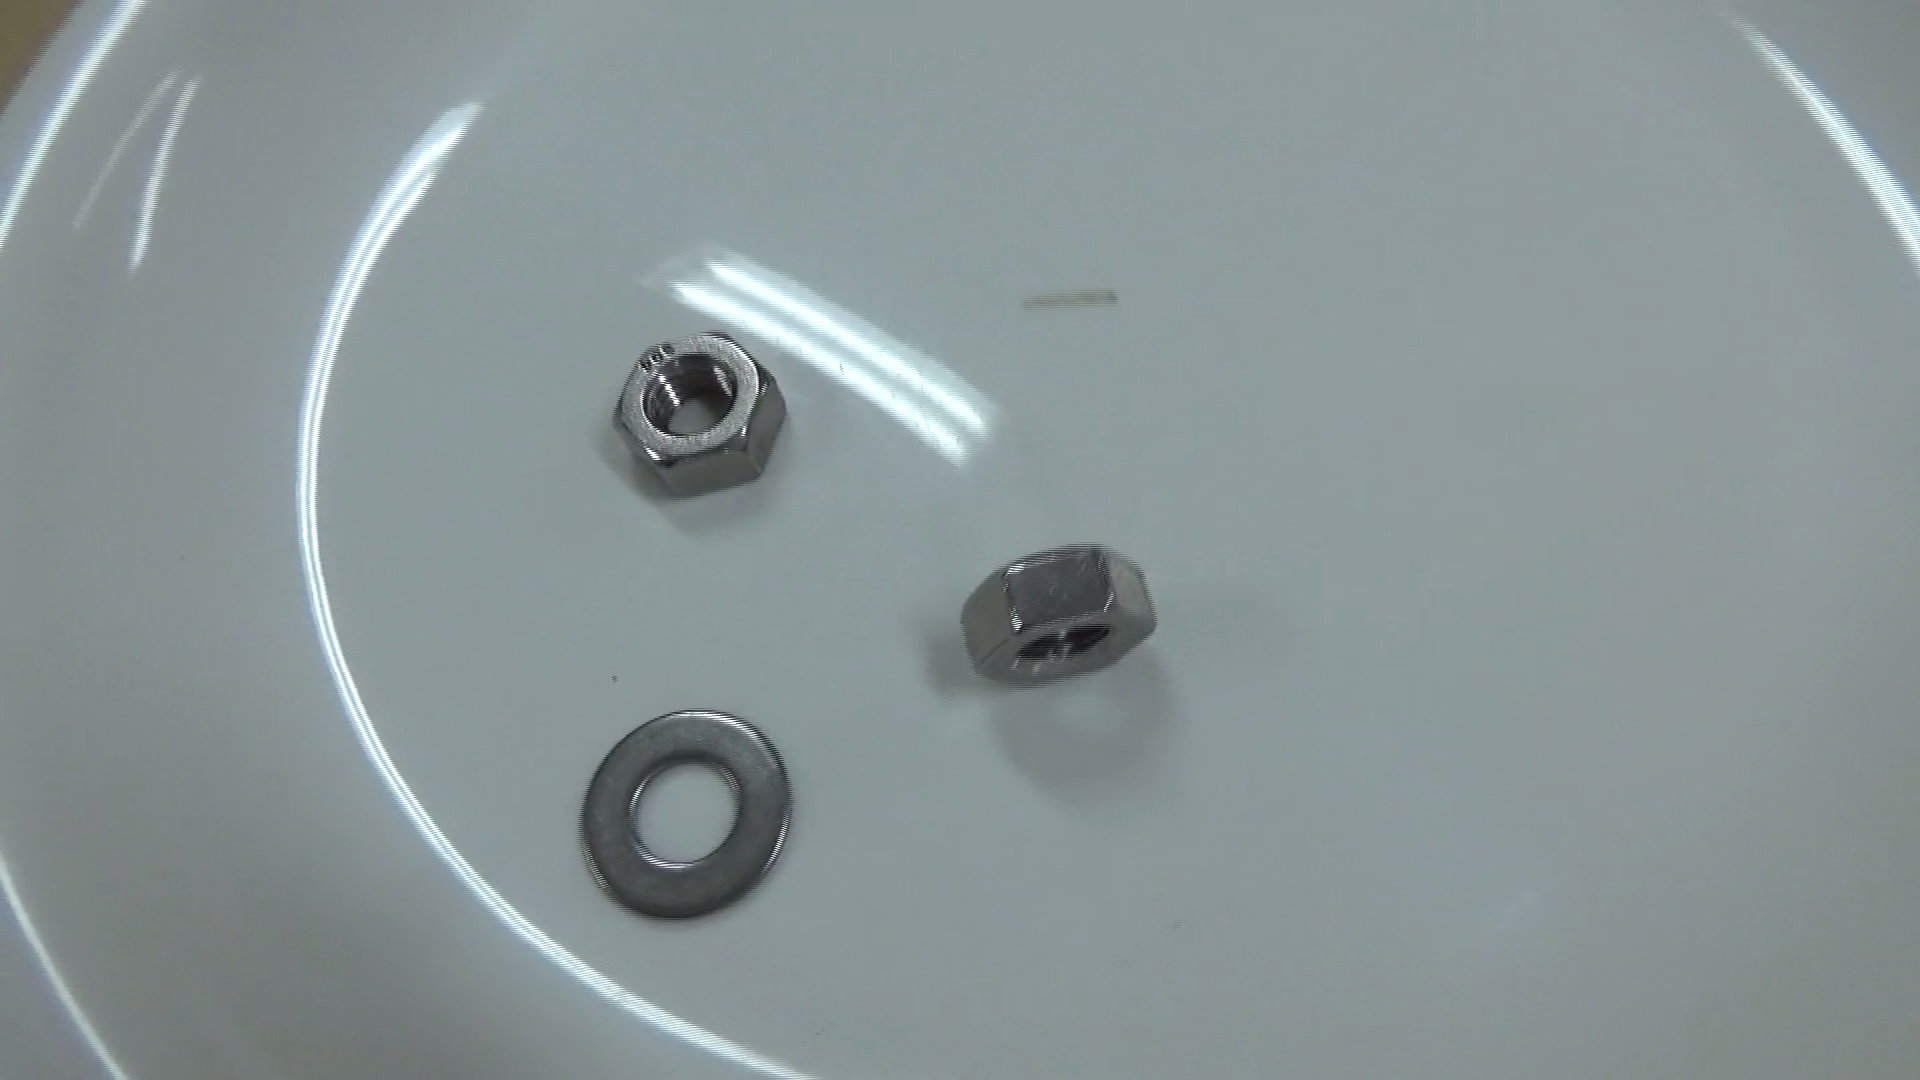nut: (593, 311, 789, 506), (944, 535, 1162, 691)
washer: (570, 683, 800, 934)
